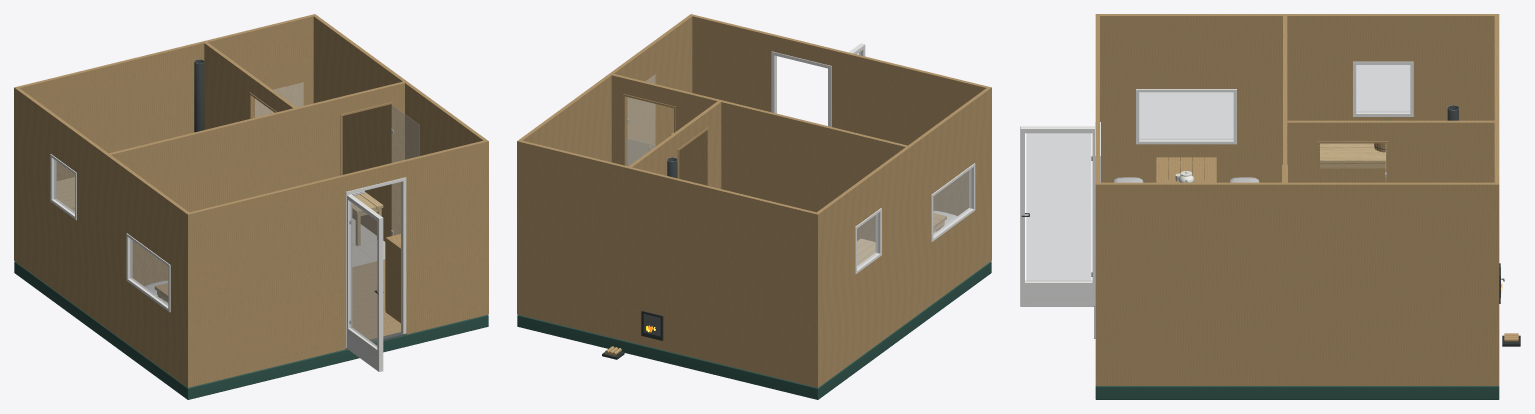
3 renders of one model, left to right at view 1: azimuth 30°, elevation 25°; view 2: azimuth 150°, elevation 25°; view 3: azimuth 270°, elevation 25°, orthographic. The views are drawn at different scales.
Parts seen in each view (by area): view 1: DP06-W01, DP06-W03, DP06-W06, DP06-W02, DP06-W04, Hinge_DP06-D03, Dimensioned foundation, DP06-W05, Floor lounge, Window p6_i1747, Hinge_DP06-D02, Door entry p6_i1696 (+8 smaller); view 2: DP06-W02, DP06-W03, DP06-W01, DP06-W06, DP06-W04, Dimensioned foundation, DP06-W05, Window p6_i1747, Hinge_DP06-D02, Window p6_i1746, ASTON dimensioned stove and remote firebox, Door entry p6_i1696 (+3 smaller); view 3: DP06-W04, DP06-W03, Hinge_DP06-D03, DP06-W05, Dimensioned foundation, Window p6_i1747, Window p6_i1746, DP06-W02, DP06-W01, С1 table, ВП2 upper, DP06-W06 (+2 smaller).
Part boxes in pixels (x1=…): DP06-W01: x1=186, y1=140, x2=488, y2=387; DP06-W03: x1=16, y1=88, x2=188, y2=386; DP06-W06: x1=109, y1=81, x2=404, y2=285; DP06-W02: x1=14, y1=14, x2=316, y2=261; DP06-W04: x1=313, y1=15, x2=486, y2=241; Hinge_DP06-D03: x1=347, y1=194, x2=383, y2=371; Dimensioned foundation: x1=14, y1=261, x2=488, y2=399; DP06-W05: x1=204, y1=42, x2=296, y2=129; Floor lounge: x1=352, y1=261, x2=400, y2=339; Window p6_i1747: x1=126, y1=233, x2=170, y2=312; Hinge_DP06-D02: x1=391, y1=105, x2=419, y2=235; Door entry p6_i1696: x1=346, y1=177, x2=406, y2=349; DP06-W02: x1=517, y1=140, x2=819, y2=387; DP06-W03: x1=817, y1=88, x2=989, y2=386; DP06-W01: x1=689, y1=14, x2=991, y2=261; DP06-W06: x1=611, y1=74, x2=907, y2=241; DP06-W04: x1=519, y1=15, x2=692, y2=165; Dimensioned foundation: x1=517, y1=261, x2=991, y2=399; DP06-W05: x1=629, y1=101, x2=721, y2=188; Window p6_i1747: x1=931, y1=163, x2=975, y2=242; Hinge_DP06-D02: x1=627, y1=74, x2=655, y2=165; Window p6_i1746: x1=855, y1=208, x2=881, y2=274; ASTON dimensioned stove and remote firebox: x1=602, y1=157, x2=677, y2=359; Door entry p6_i1696: x1=771, y1=51, x2=831, y2=126; DP06-W04: x1=1100, y1=182, x2=1494, y2=385; DP06-W03: x1=1100, y1=14, x2=1494, y2=182; Hinge_DP06-D03: x1=1020, y1=126, x2=1094, y2=306; DP06-W05: x1=1287, y1=120, x2=1494, y2=182; Dimensioned foundation: x1=1095, y1=386, x2=1499, y2=399; Window p6_i1747: x1=1136, y1=89, x2=1236, y2=144; Window p6_i1746: x1=1353, y1=61, x2=1413, y2=116; DP06-W02: x1=1494, y1=14, x2=1499, y2=385; DP06-W01: x1=1095, y1=14, x2=1099, y2=385; С1 table: x1=1156, y1=157, x2=1216, y2=182; ВП2 upper: x1=1320, y1=143, x2=1385, y2=163; DP06-W06: x1=1283, y1=16, x2=1287, y2=182.
Bounding box in the file's own units: 4.01 × 2.36 × 4.95.
Materials: 33 (14 with a texture image).
